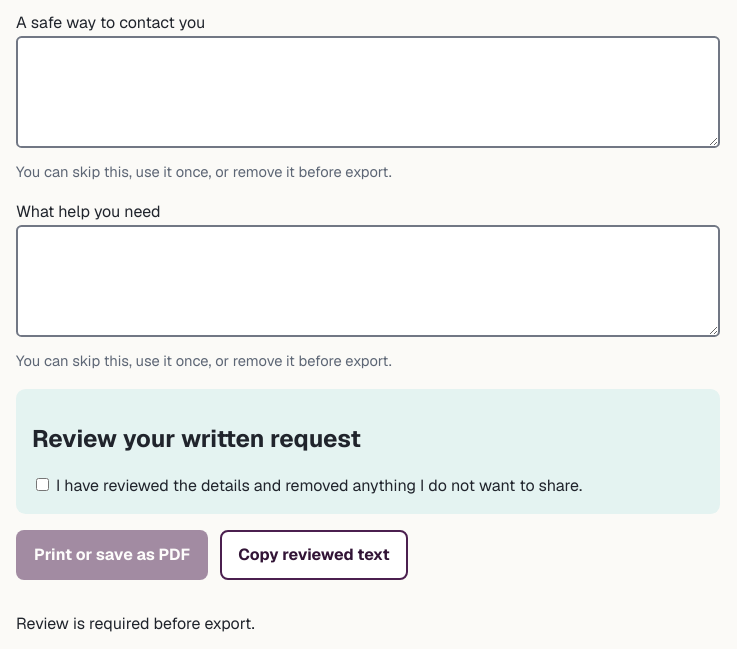
accessible foundation flow › requires explicit review before export
(page scrolled)
Check: the button "Print or save as PDF" is disabled, box x1=16 y1=530 x2=208 y2=580
Click the checkbox labelled "I have reviewed": (42, 484) x1=36 y1=478 x2=49 y2=490
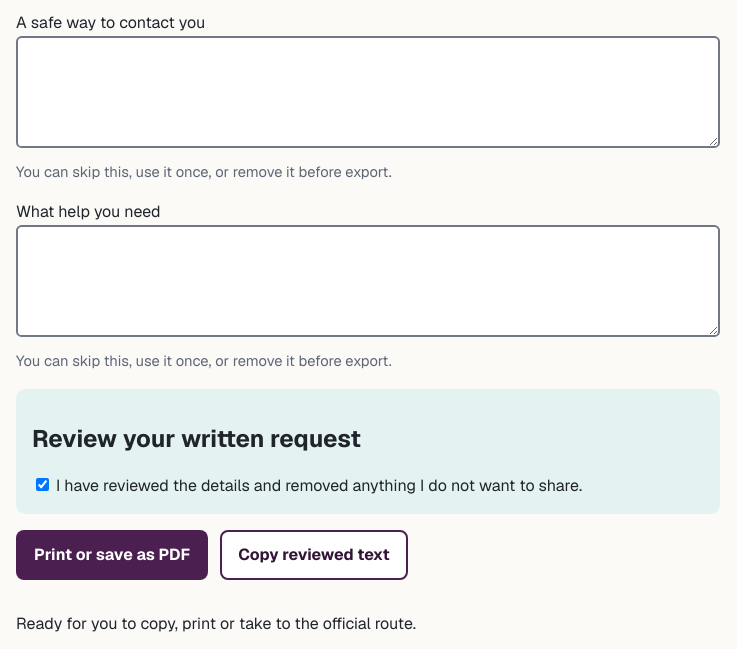
Check: the button "Print or save as PDF" is enabled, box x1=16 y1=530 x2=208 y2=580
